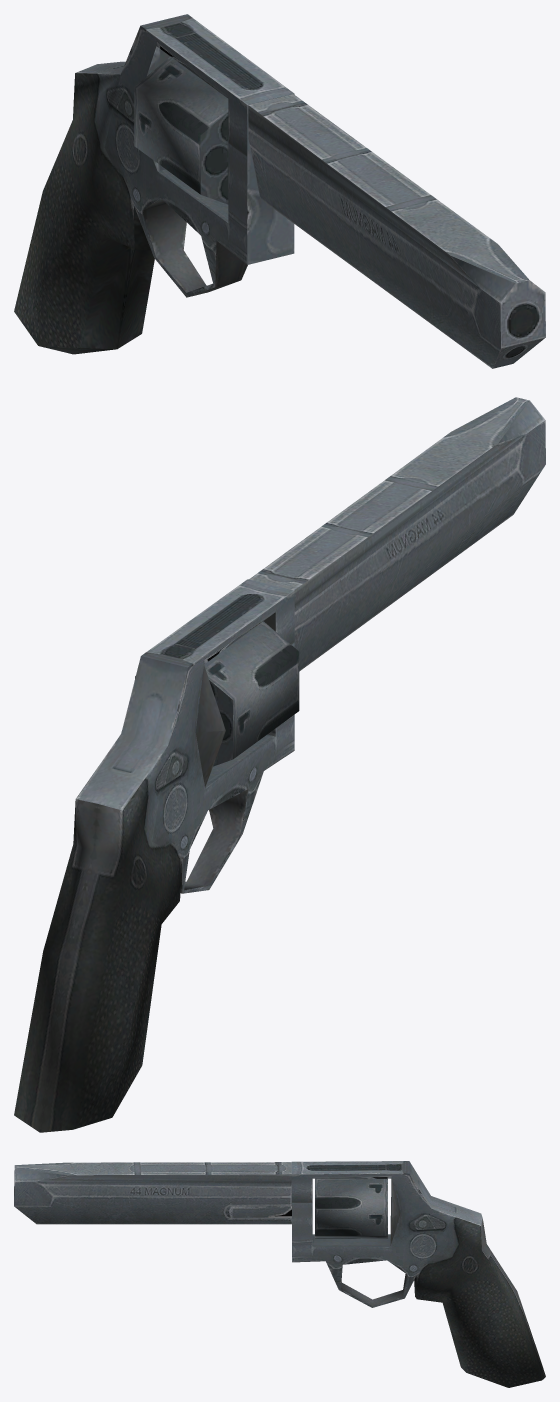
Rendered from Pistol_sq_02_lod2_LOD_(000225).glb.
The picture shows the model from 3 angles, top to bottom: view 1: azimuth 30°, elevation 25°; view 2: azimuth 150°, elevation 25°; view 3: azimuth 270°, elevation 25°; orthographic projection. The views are drawn at different scales.
Parts seen in each view (by area): view 1: sq_02_lod2; view 2: sq_02_lod2; view 3: sq_02_lod2.
Part boxes in pixels (left/top/right/bottom): sq_02_lod2: left=14, top=14, right=545, bottom=368; sq_02_lod2: left=14, top=397, right=545, bottom=1132; sq_02_lod2: left=14, top=1161, right=545, bottom=1387.
Bounding box in the file's own units: 0.0497 × 0.1945 × 0.4245.
Materials: 1 (1 with a texture image).
